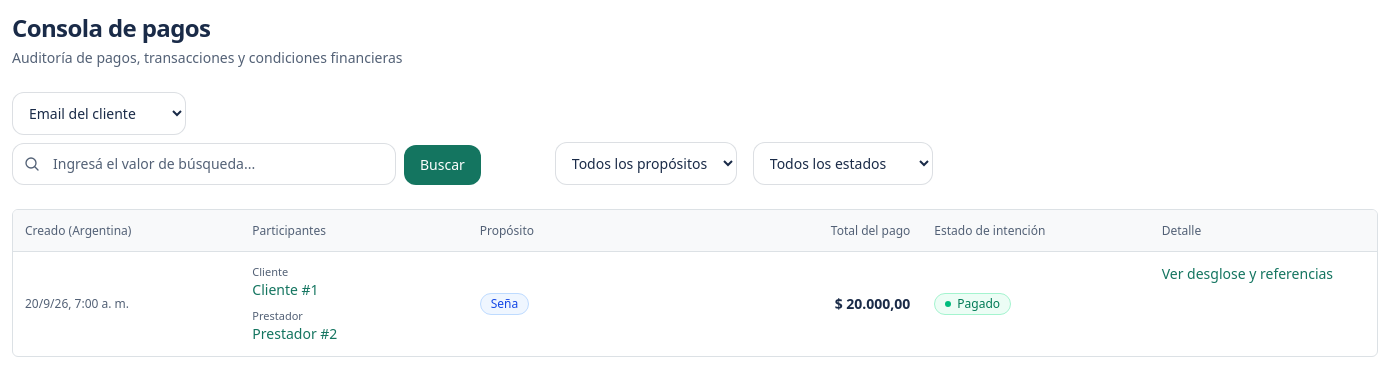
Scenario: PaymentsPageClient › rejects malformed intent IDs before sending a request
expect the button "Ver desglose y referencias" is shown: met, box [1162, 264, 1333, 284]
Select "ID de intención" in the dropdown named "Buscar por" at (99, 114), box [12, 92, 186, 135]
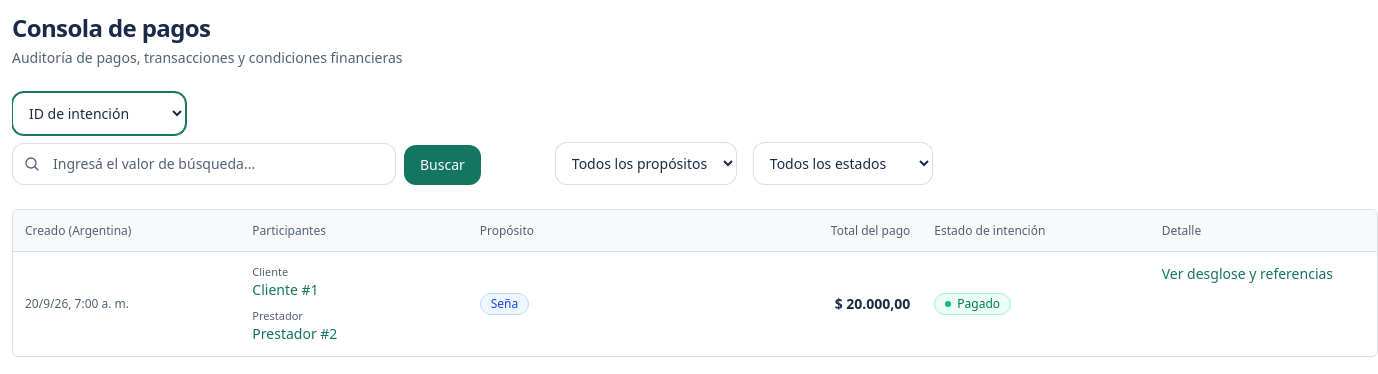
Type "not-a-uuid" into the search field named "Buscar pagos".
click(204, 164); type("not-a-uuid")  # box [12, 143, 396, 185]
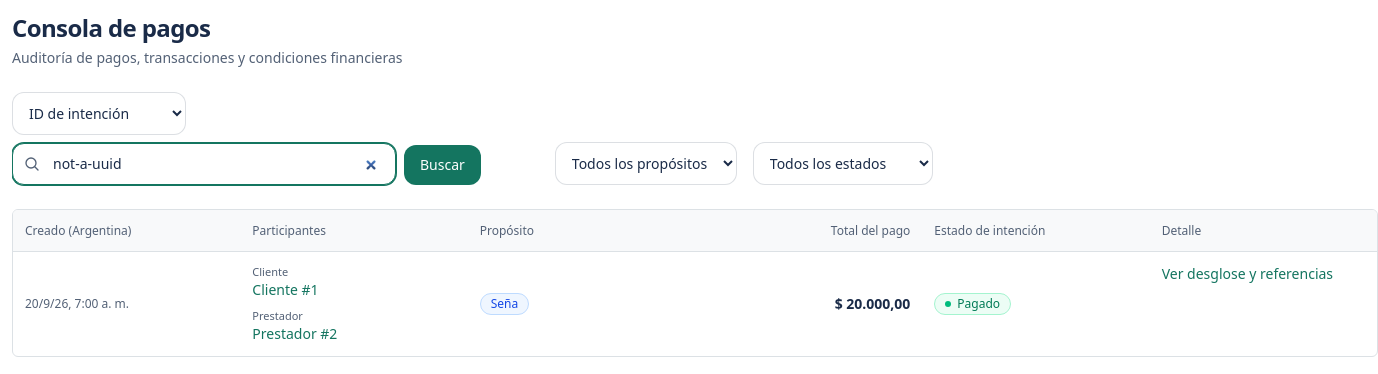
Click the button "Buscar".
click(442, 165)  # box [404, 145, 481, 185]
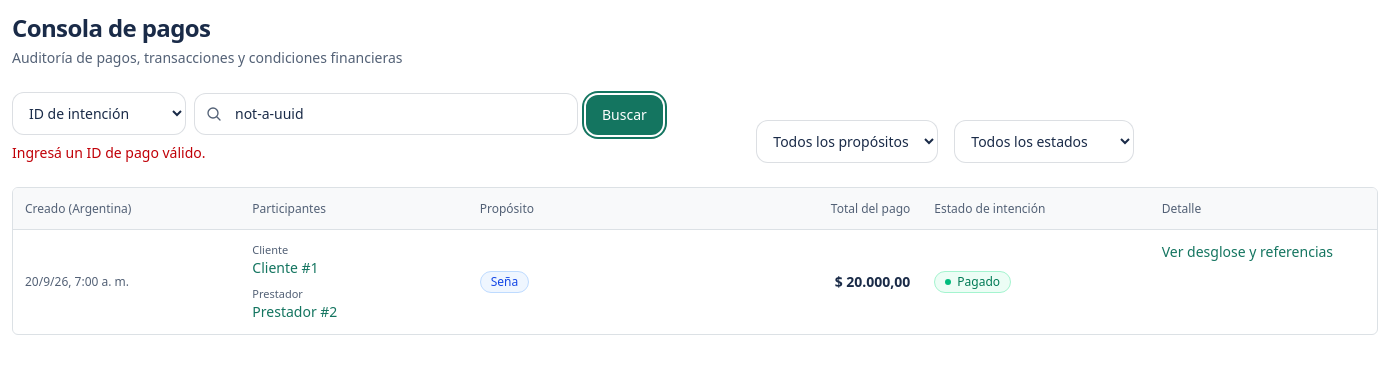
expect the message reads "Ingresá un ID de pago válido.": met, box [12, 143, 206, 162]
